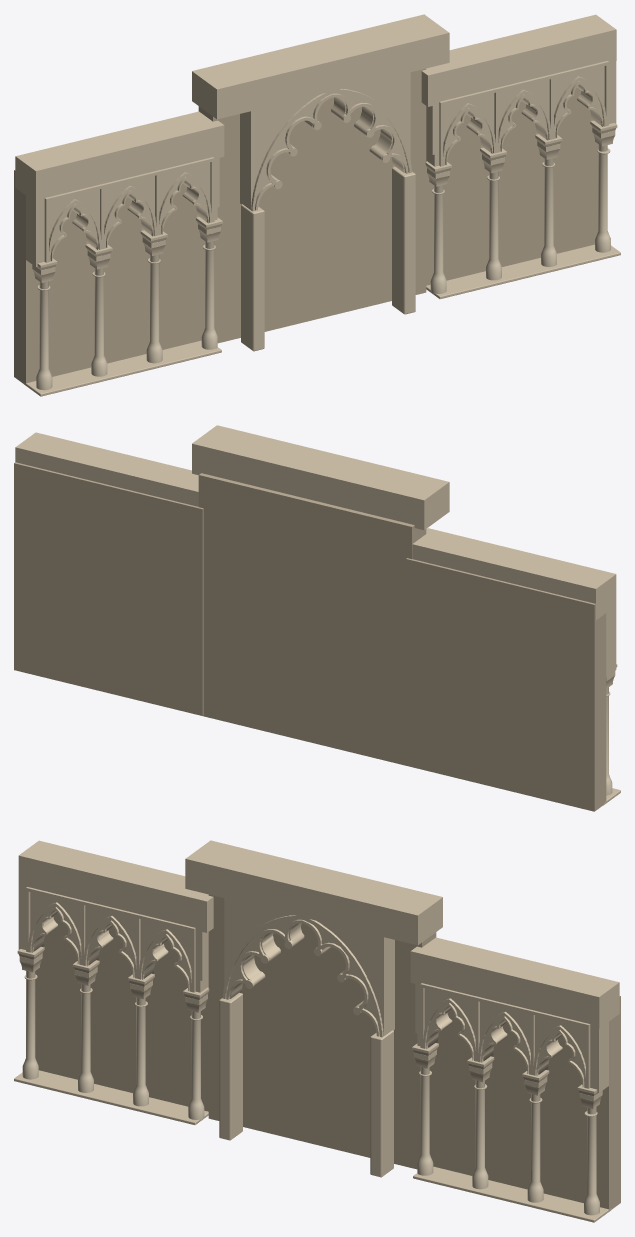
File: altar-reredos.glb
3 views of the same model, one above another, from view 1: azimuth 30°, elevation 25°; view 2: azimuth 150°, elevation 25°; view 3: azimuth 330°, elevation 25° (orthographic).
Visible parts, largest first — view 1: REREDOS_center_back, REREDOS_L_back, REREDOS_R_back, REREDOS_center_frieze, REREDOS_L_frieze, REREDOS_R_frieze, ARCH_L1_spandrel, ARCH_R1_spandrel, ARCH_CENTER_solid_spandrel, ARCH_CENTER_jamb_0.9, ARCH_CENTER_jamb_-0.9, WING_sill_-1_1.75 (+12 smaller); view 2: REREDOS_center_back, REREDOS_L_back, REREDOS_R_back, REREDOS_center_frieze, REREDOS_L_frieze, REREDOS_R_frieze, ARCH_L1_spandrel; view 3: REREDOS_center_back, REREDOS_R_back, REREDOS_L_back, REREDOS_center_frieze, REREDOS_R_frieze, REREDOS_L_frieze, ARCH_R1_spandrel, ARCH_L1_spandrel, ARCH_CENTER_solid_spandrel, ARCH_CENTER_jamb_-0.9, ARCH_CENTER_jamb_0.9, WING_sill_1_1.75 (+12 smaller).
Boxes of the visible parts, x1,y1,x2,y2 form: REREDOS_center_back: (198, 68, 426, 343); REREDOS_L_back: (14, 170, 205, 383); REREDOS_R_back: (426, 87, 598, 285); REREDOS_center_frieze: (192, 14, 449, 119); REREDOS_L_frieze: (15, 111, 224, 202); REREDOS_R_frieze: (421, 14, 616, 106); ARCH_L1_spandrel: (26, 157, 219, 266); ARCH_R1_spandrel: (426, 61, 616, 166); ARCH_CENTER_solid_spandrel: (240, 72, 410, 209); ARCH_CENTER_jamb_0.9: (392, 167, 415, 314); ARCH_CENTER_jamb_-0.9: (241, 204, 264, 351); WING_sill_-1_1.75: (23, 340, 221, 396); REREDOS_center_back: (198, 473, 426, 765); REREDOS_L_back: (406, 558, 606, 811); REREDOS_R_back: (14, 462, 203, 715); REREDOS_center_frieze: (192, 425, 449, 530); REREDOS_L_frieze: (412, 528, 616, 619); REREDOS_R_frieze: (15, 432, 198, 506); ARCH_L1_spandrel: (606, 606, 616, 676); REREDOS_center_back: (208, 894, 436, 1169); REREDOS_R_back: (429, 996, 620, 1209); REREDOS_L_back: (35, 913, 208, 1111); REREDOS_center_frieze: (185, 840, 442, 945); REREDOS_R_frieze: (410, 937, 619, 1028); REREDOS_L_frieze: (18, 840, 213, 932); ARCH_R1_spandrel: (415, 983, 608, 1092); ARCH_L1_spandrel: (18, 887, 208, 992); ARCH_CENTER_solid_spandrel: (224, 898, 394, 1035); ARCH_CENTER_jamb_-0.9: (219, 992, 242, 1140); ARCH_CENTER_jamb_0.9: (370, 1030, 393, 1177); WING_sill_1_1.75: (413, 1166, 611, 1222).
Size of the model in its own units: 7.88 by 3.5 by 0.7153.
